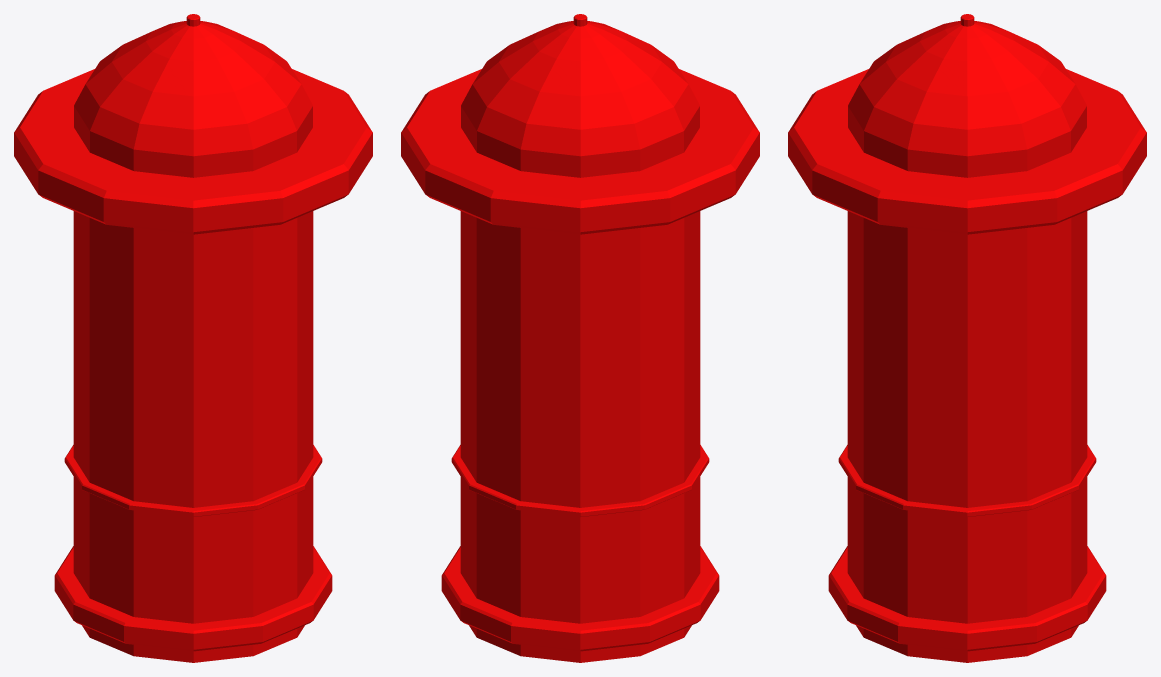
File: prop1.fbx
The picture shows the model from 3 angles, left to right: view 1: azimuth 30°, elevation 25°; view 2: azimuth 150°, elevation 25°; view 3: azimuth 270°, elevation 25°; orthographic projection.
Visible parts, largest first — view 1: Circle; view 2: Circle; view 3: Circle.
Part boxes in pixels (x1,y1,x2,y2): Circle: (14, 14, 372, 662); Circle: (401, 14, 759, 662); Circle: (788, 14, 1146, 662).
Bounding box in the file's own units: 299 × 548 × 299.
